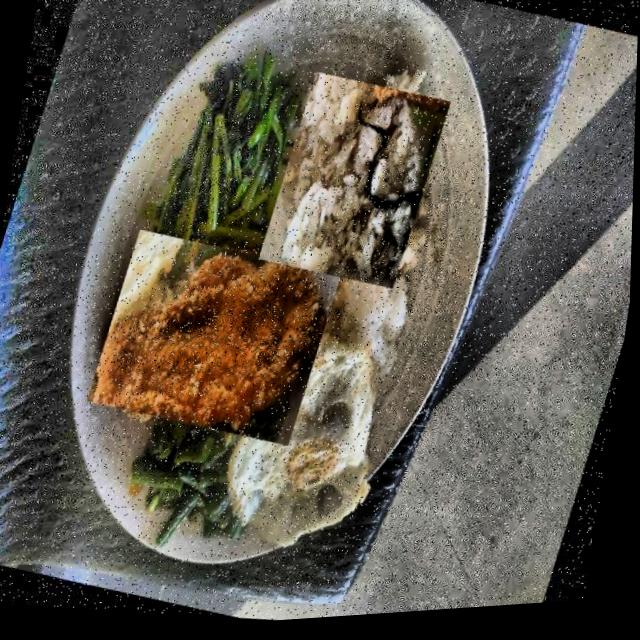Food: (83, 217, 349, 465), (209, 319, 404, 573), (255, 64, 456, 306), (161, 52, 315, 265)
